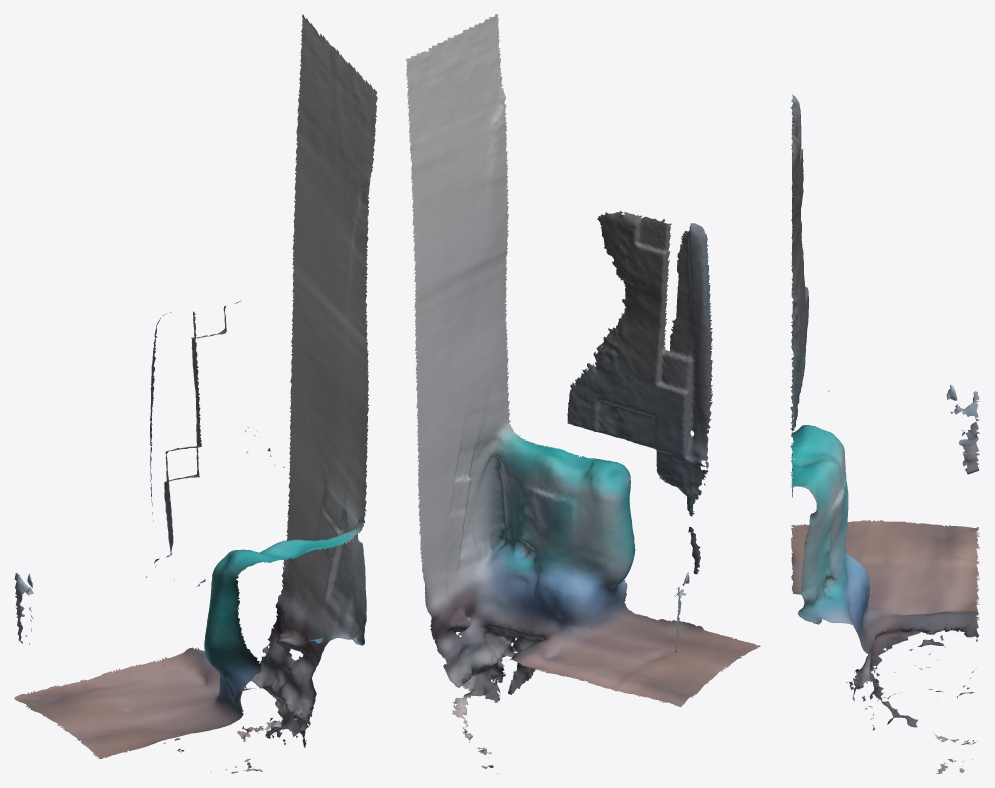
File: apartment-full-61-9febc95084fc.glb
3 views of the same model, side by side, from view 1: azimuth 30°, elevation 25°; view 2: azimuth 150°, elevation 25°; view 3: azimuth 270°, elevation 25° (orthographic). The views are drawn at different scales.
Size of the model in its own units: 0.854 by 2.06 by 0.45.
